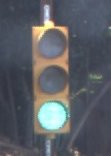Green: (25, 18, 85, 146)
